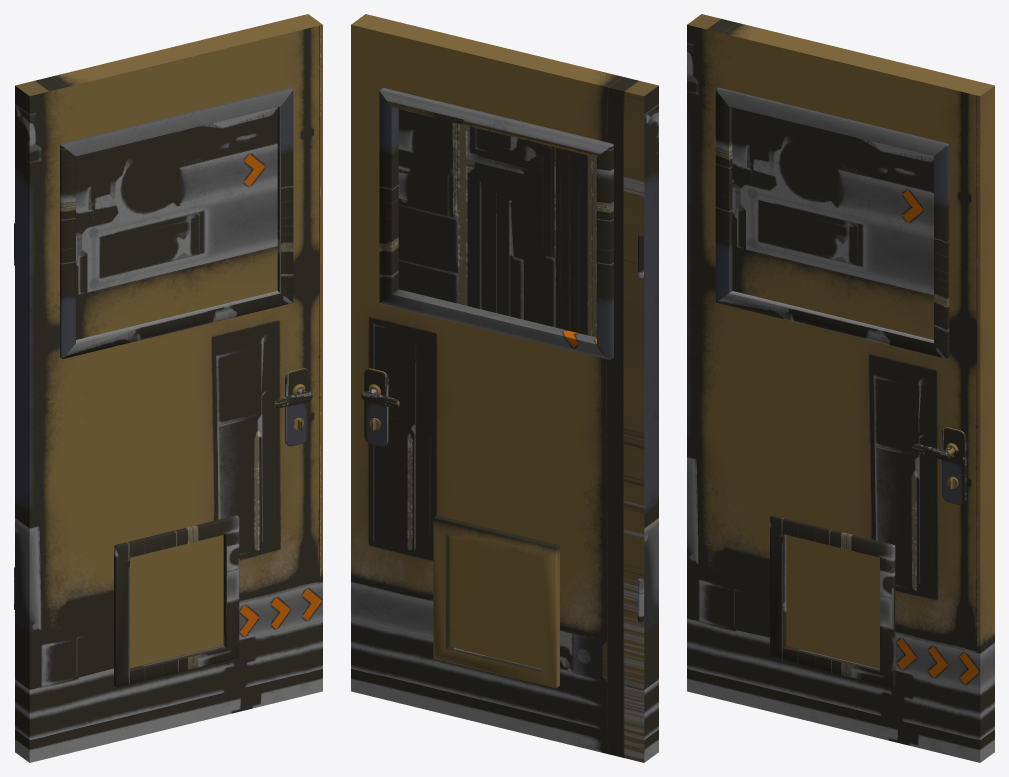
File: metal door.fbx
The picture shows the model from 3 angles, left to right: view 1: azimuth 30°, elevation 25°; view 2: azimuth 150°, elevation 25°; view 3: azimuth 330°, elevation 25°; orthographic projection.
Parts seen in each view (by area): view 1: Door_ Metal_ Old_15_MB; view 2: Door_ Metal_ Old_15_MB; view 3: Door_ Metal_ Old_15_MB.
Part boxes in pixels (x1,y1,x2,y2): Door_ Metal_ Old_15_MB: [14, 14, 322, 762]; Door_ Metal_ Old_15_MB: [351, 14, 658, 762]; Door_ Metal_ Old_15_MB: [687, 14, 994, 762].
Size of the model in its own units: 130 by 283 by 27.98.
